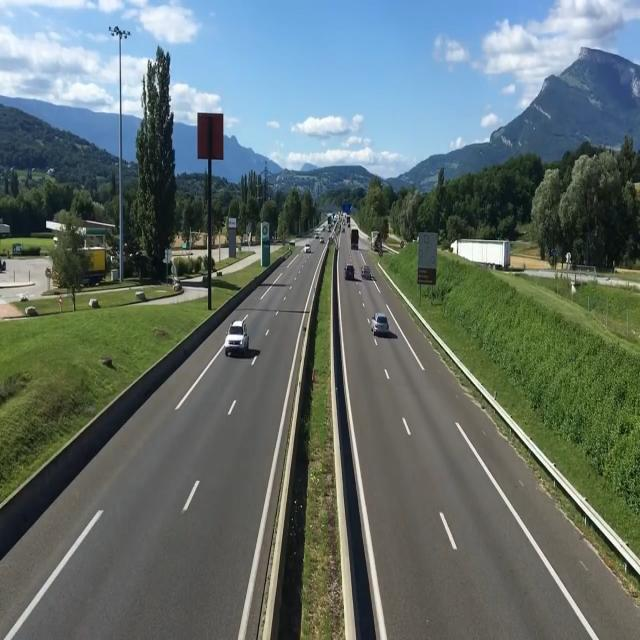car: (223, 317, 256, 362), (373, 308, 394, 342), (361, 260, 374, 284), (344, 263, 358, 283)
truck: (450, 233, 503, 255), (349, 220, 362, 256)
